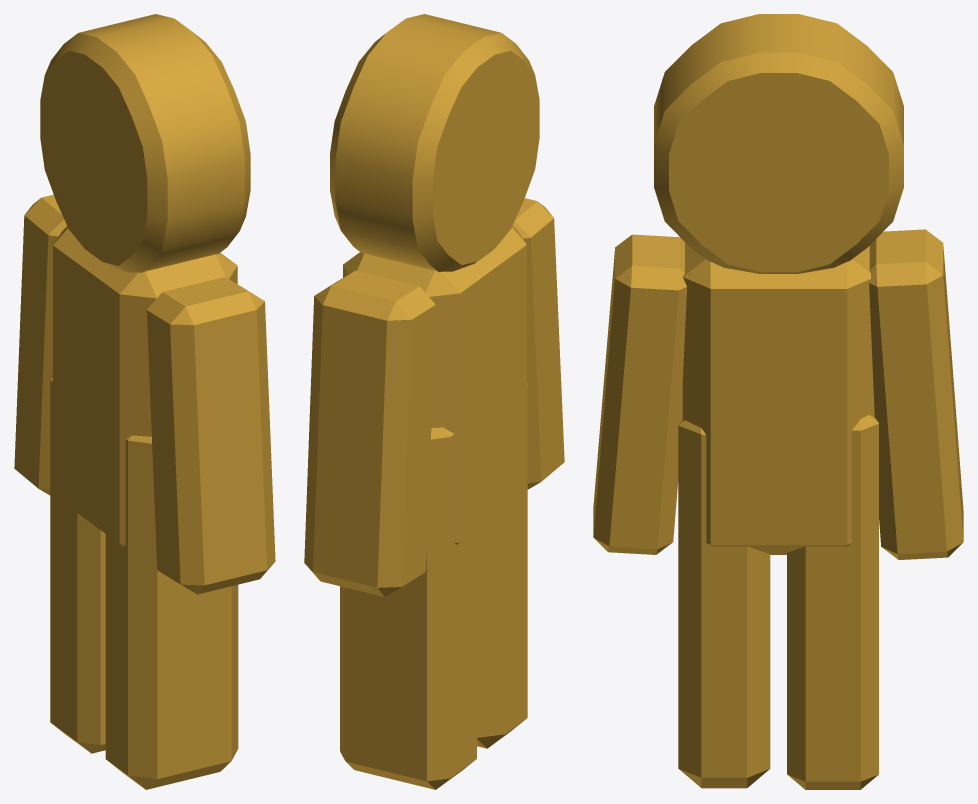
Rendered from ShorterHuman.fbx.
3 renders of one model, left to right at view 1: azimuth 30°, elevation 25°; view 2: azimuth 150°, elevation 25°; view 3: azimuth 270°, elevation 25°, orthographic. The views are drawn at different scales.
Visible parts, largest first — view 1: head, rightarm, rightleg, body, leftleg, leftarm; view 2: head, leftarm, leftleg, body, rightleg, rightarm; view 3: head, body, leftarm, leftleg, rightleg, rightarm.
Part boxes in pixels (x1=…): head: x1=40, y1=14, x2=250, y2=272; rightarm: x1=146, y1=277, x2=275, y2=594; rightleg: x1=105, y1=435, x2=238, y2=789; body: x1=53, y1=226, x2=237, y2=546; leftleg: x1=50, y1=375, x2=105, y2=753; leftarm: x1=14, y1=194, x2=66, y2=495; head: x1=330, y1=14, x2=539, y2=272; leftarm: x1=304, y1=270, x2=435, y2=596; leftleg: x1=340, y1=427, x2=476, y2=789; body: x1=343, y1=225, x2=526, y2=544; rightleg: x1=477, y1=383, x2=527, y2=748; rightarm: x1=512, y1=198, x2=564, y2=489; head: x1=654, y1=14, x2=903, y2=273; body: x1=682, y1=242, x2=874, y2=554; leftarm: x1=869, y1=229, x2=963, y2=559; leftleg: x1=787, y1=415, x2=878, y2=789; rightleg: x1=678, y1=420, x2=770, y2=788; rightarm: x1=593, y1=234, x2=686, y2=554.
Bounding box in the file's own units: 10.07 × 58.57 × 26.68.
